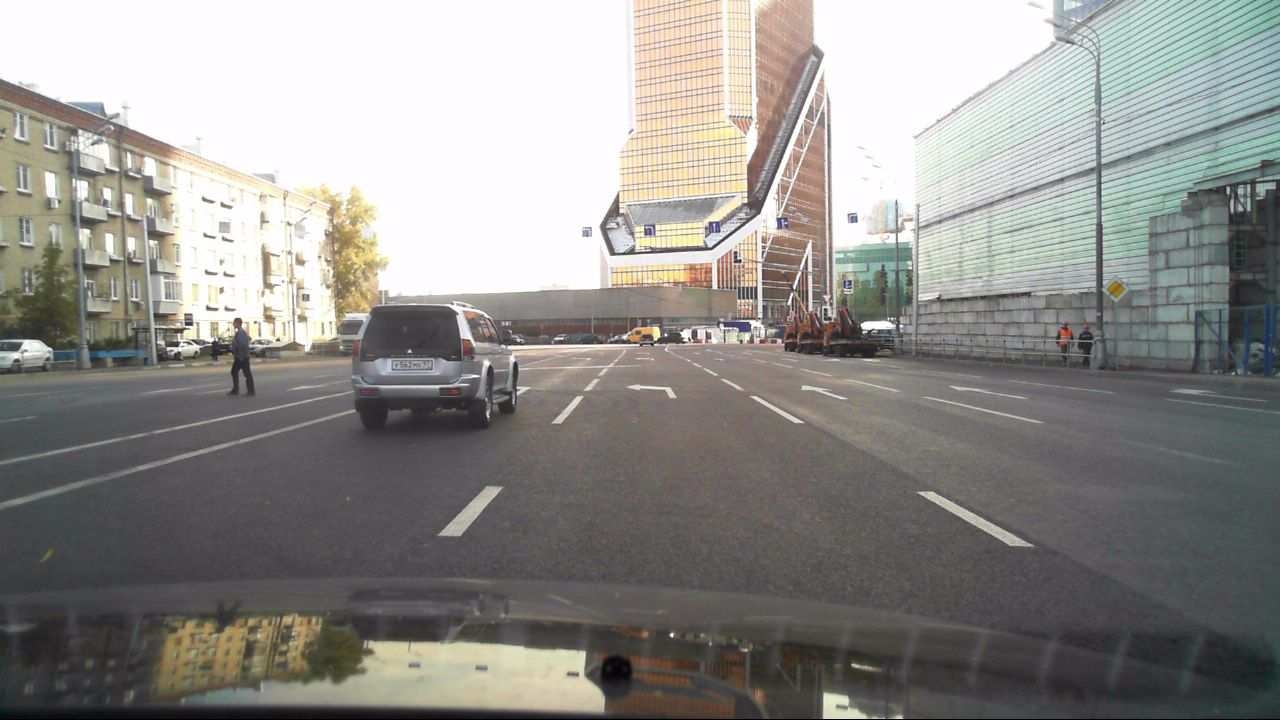main road: (1101, 271, 1128, 306)
